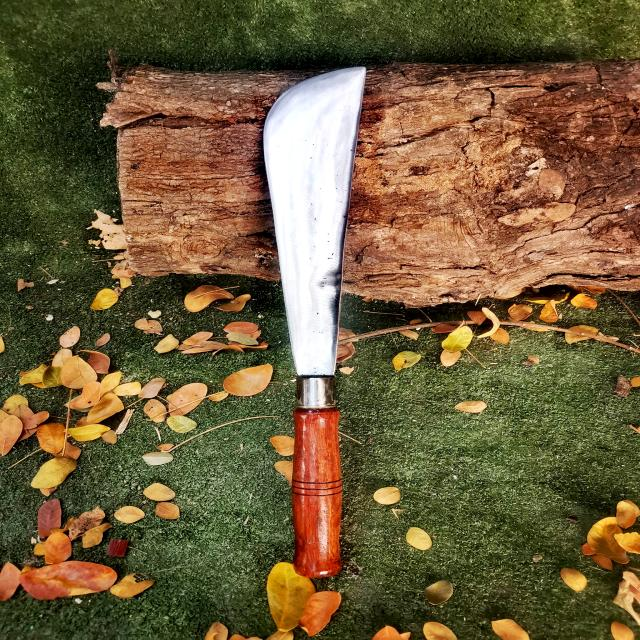eto: (250, 60, 377, 581)
